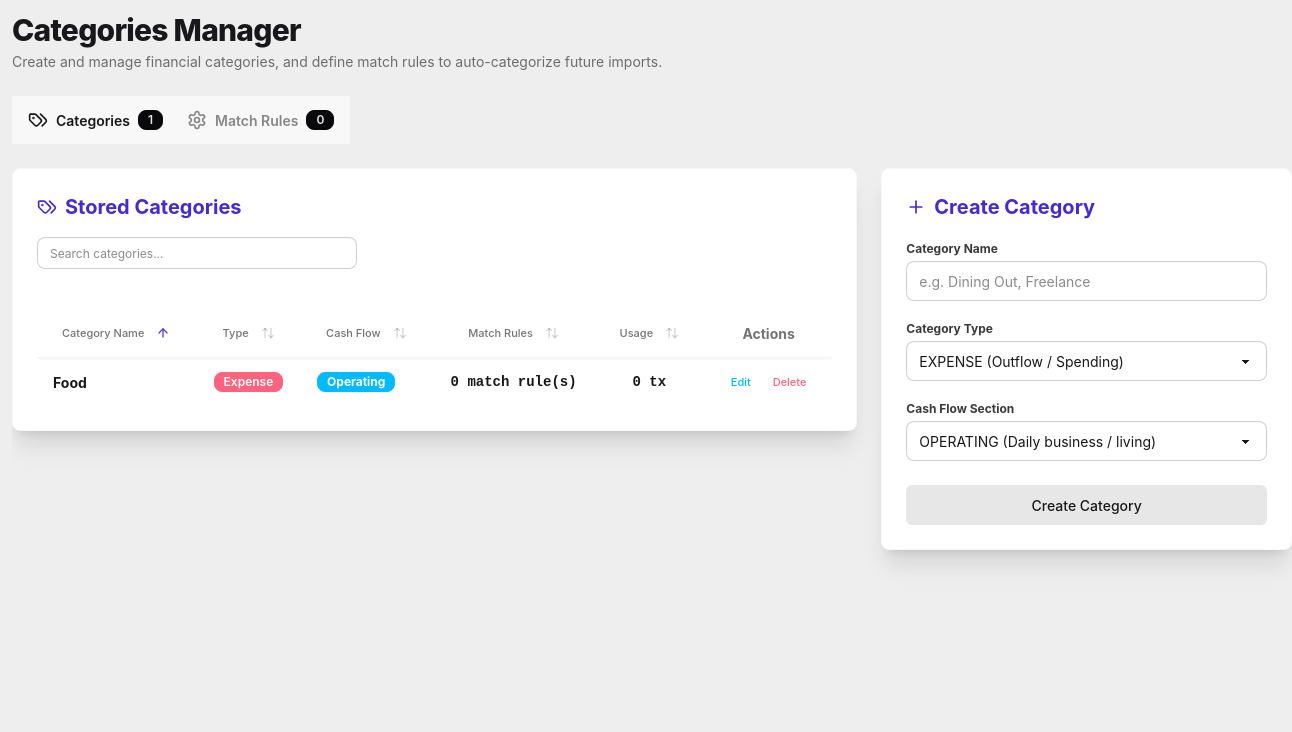
Scenario: CategoriesClient — categories list › shows noResults when search returns empty
Type "NonexistentXYZ" into the field with placeholder "Search categories..." at [197, 253], box [37,237,357,269]
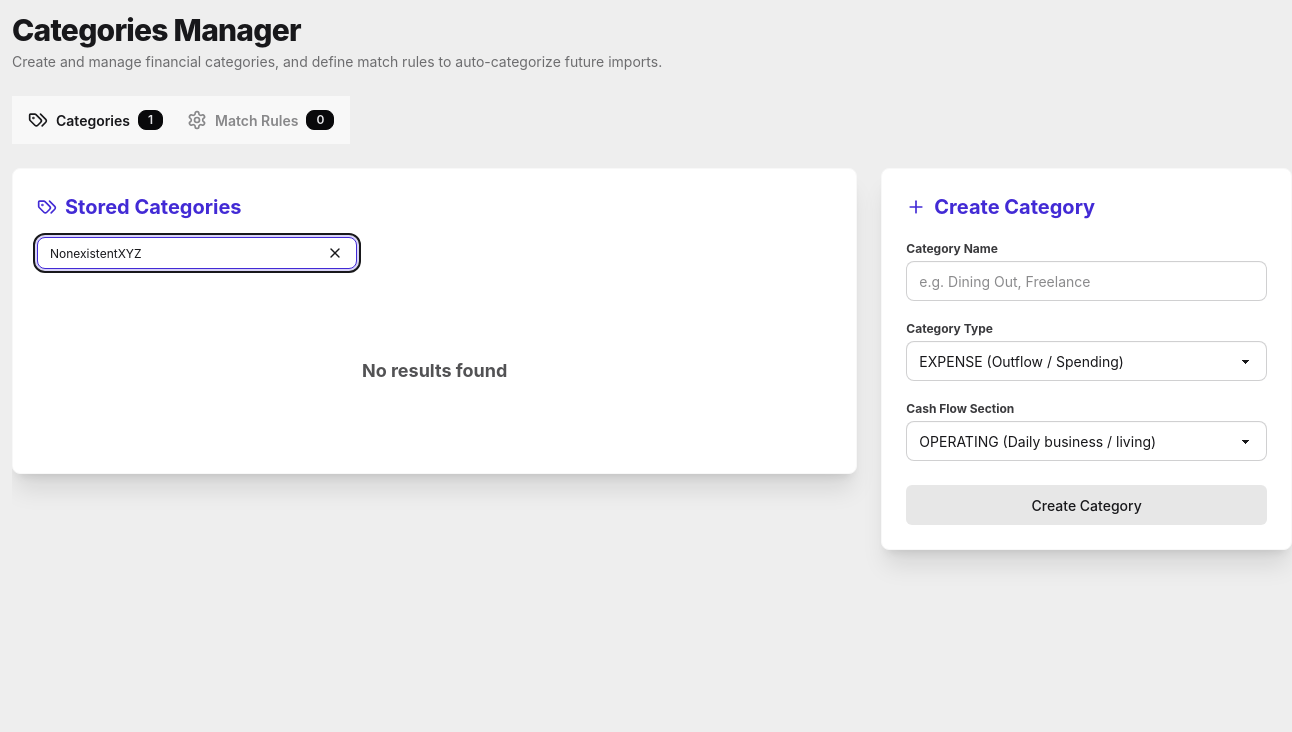
Check: the text "No results found" is shown, box [362,357,507,385]
